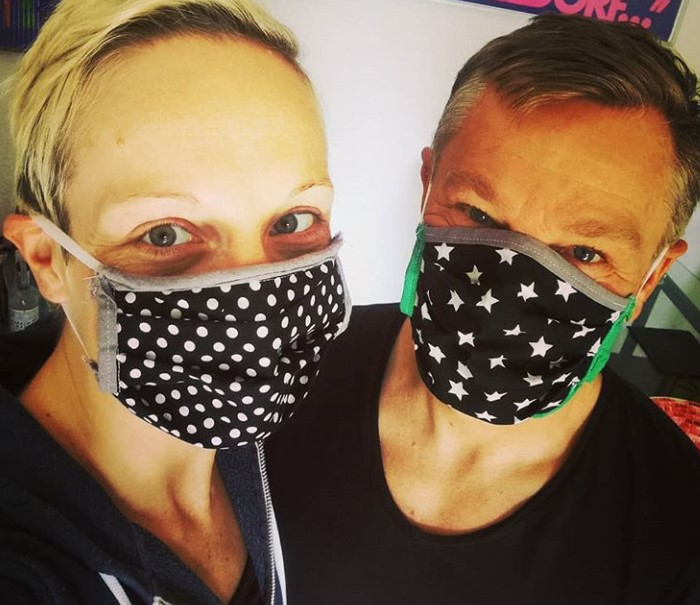face_with_mask: (8, 32, 356, 453), (396, 11, 698, 427)
